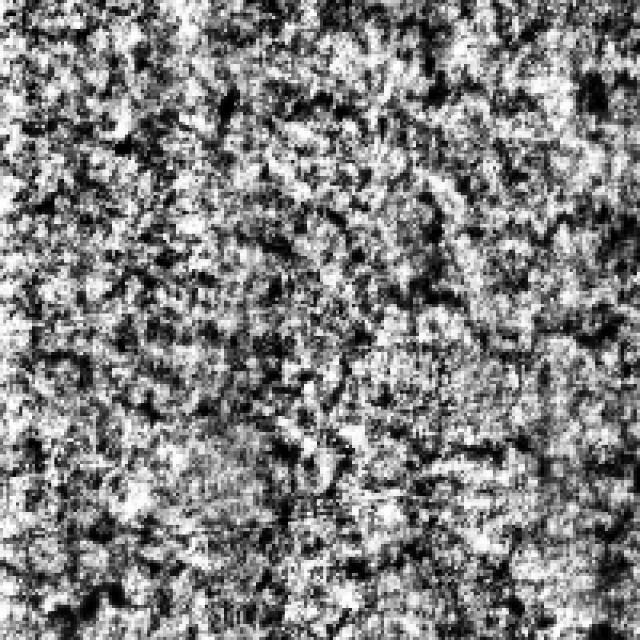Pitted_Surface: (234, 160, 636, 490)
